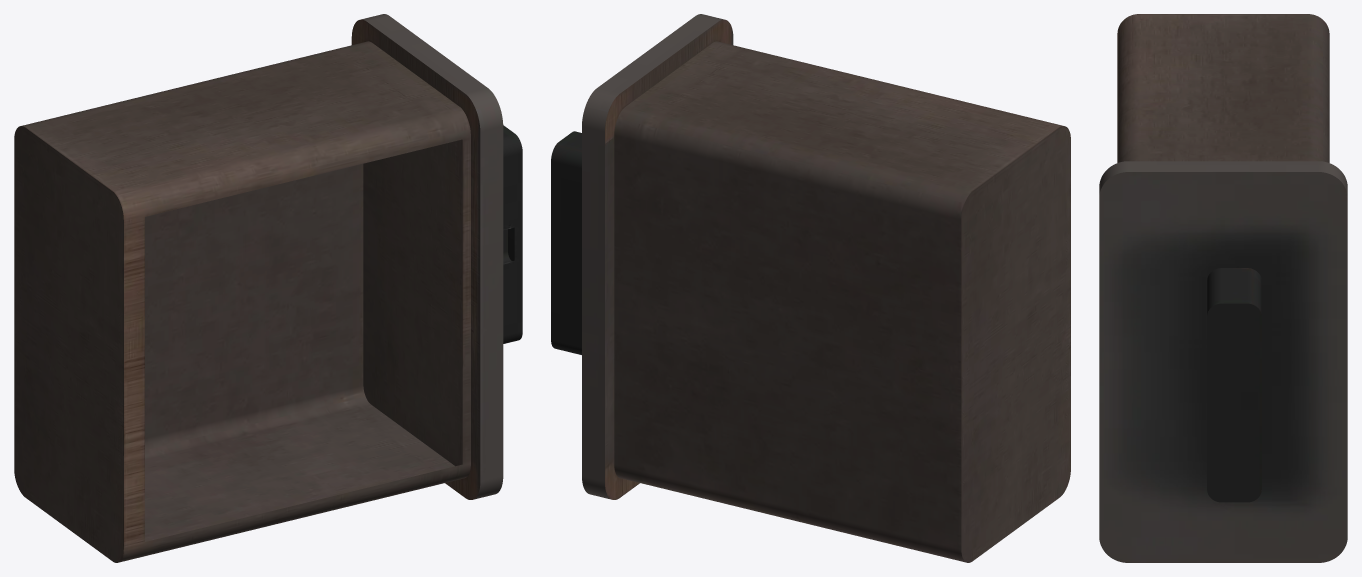
The model's file is drawer__drawer_body.glb.
3 renders of one model, left to right at view 1: azimuth 30°, elevation 25°; view 2: azimuth 150°, elevation 25°; view 3: azimuth 270°, elevation 25°, orthographic. The views are drawn at different scales.
Visible parts, largest first — view 1: geometry_0; view 2: geometry_0; view 3: geometry_0.
Part boxes in pixels (box(x1,y1,x2,y2)): geometry_0: box(14, 14, 522, 562); geometry_0: box(551, 14, 1070, 562); geometry_0: box(1099, 14, 1347, 562).
Bounding box in the file's own units: 0.272 × 0.236 × 0.136.
Materials: 1 (1 with a texture image).
